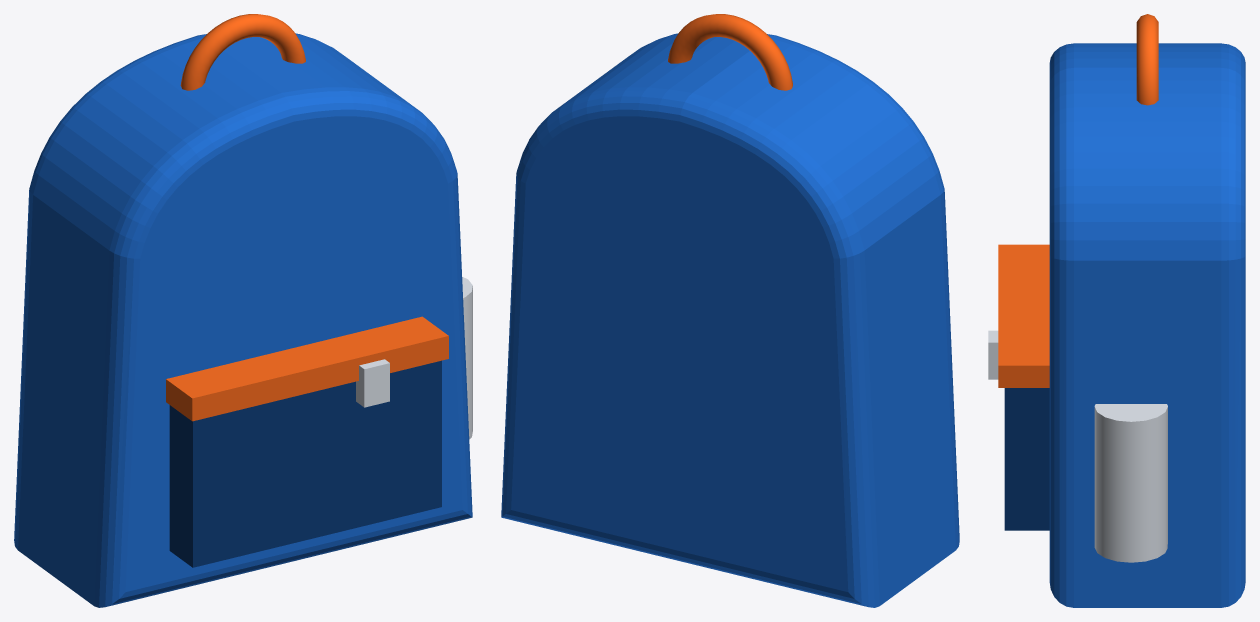
File: school-backpack.glb
3 renders of one model, left to right at view 1: azimuth 30°, elevation 25°; view 2: azimuth 150°, elevation 25°; view 3: azimuth 270°, elevation 25°, orthographic. The views are drawn at different scales.
Visible parts, largest first — view 1: SchoolBackpack; view 2: SchoolBackpack; view 3: SchoolBackpack.
Part boxes in pixels (x1,y1,x2,y2): SchoolBackpack: [14, 14, 472, 607]; SchoolBackpack: [501, 14, 959, 607]; SchoolBackpack: [988, 14, 1245, 607].
Bounding box in the file's own units: 1.1 × 1.35 × 0.63.
